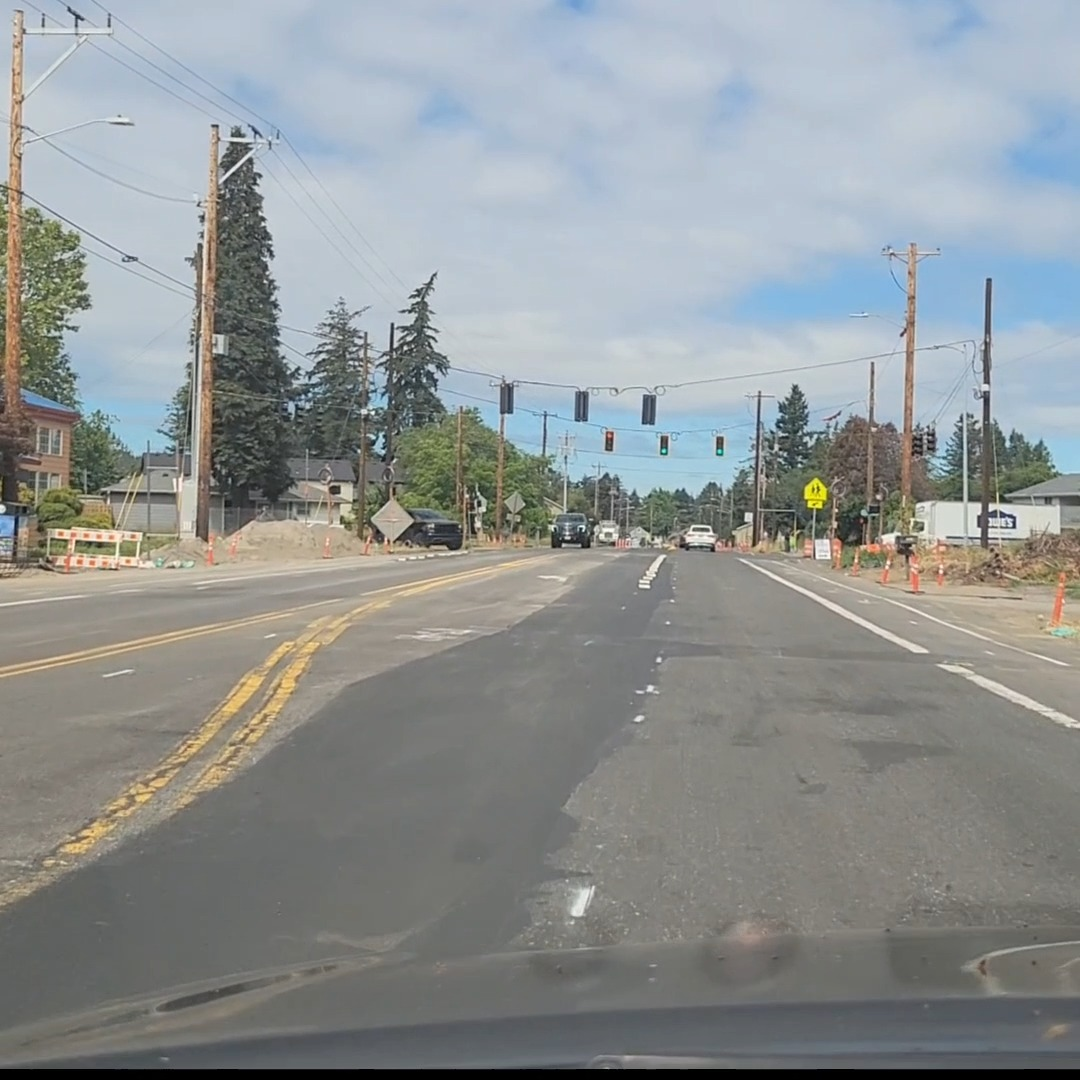car: (400, 509, 463, 549), (549, 512, 592, 548), (678, 524, 718, 551), (595, 520, 619, 547)
crosswalk-sign: (803, 476, 827, 509)
delineator: (1042, 576, 1076, 636), (904, 555, 924, 594), (878, 551, 893, 585), (847, 546, 861, 576), (830, 538, 841, 567), (62, 545, 74, 571), (228, 534, 239, 562), (204, 535, 214, 565), (935, 559, 945, 586), (362, 531, 373, 554), (322, 535, 332, 558), (512, 532, 522, 546), (384, 536, 391, 554), (489, 532, 497, 545)
